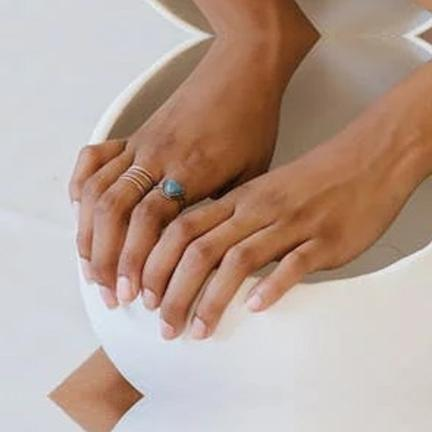Nail: (116, 276, 132, 305), (99, 285, 118, 308), (81, 259, 96, 282), (191, 317, 206, 339), (143, 287, 158, 309), (246, 292, 262, 311), (161, 320, 176, 340), (71, 200, 82, 225)
